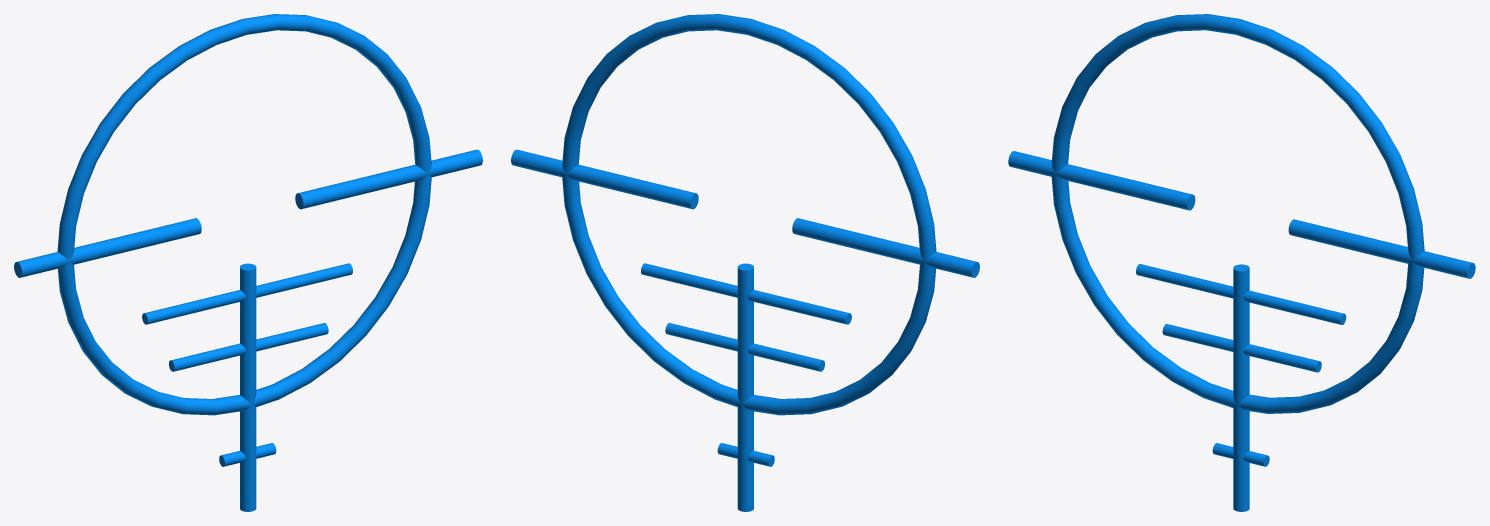
File: ch_granateBlue.DAE
The picture shows the model from 3 angles, left to right: view 1: azimuth 30°, elevation 25°; view 2: azimuth 150°, elevation 25°; view 3: azimuth 330°, elevation 25°; orthographic projection.
Visible parts, largest first — view 1: Torus008, Zylinder007, Zylinder012, Zylinder006, Zylinder008, Zylinder009, Zylinder011; view 2: Torus008, Zylinder007, Zylinder012, Zylinder006, Zylinder008, Zylinder009, Zylinder011; view 3: Torus008, Zylinder007, Zylinder006, Zylinder012, Zylinder008, Zylinder009, Zylinder011.
Part boxes in pixels (<box>): Torus008: <box>57,14,431,415</box>; Zylinder007: <box>240,263,256,511</box>; Zylinder012: <box>295,149,482,209</box>; Zylinder006: <box>14,218,201,277</box>; Zylinder008: <box>142,263,352,324</box>; Zylinder009: <box>169,323,328,371</box>; Zylinder011: <box>219,443,276,466</box>; Torus008: <box>562,14,936,415</box>; Zylinder007: <box>737,263,753,511</box>; Zylinder012: <box>511,149,698,209</box>; Zylinder006: <box>792,218,979,277</box>; Zylinder008: <box>641,263,851,324</box>; Zylinder009: <box>665,323,824,371</box>; Zylinder011: <box>717,443,774,466</box>; Torus008: <box>1051,14,1424,413</box>; Zylinder007: <box>1233,264,1249,511</box>; Zylinder006: <box>1008,151,1195,210</box>; Zylinder012: <box>1288,219,1475,278</box>; Zylinder008: <box>1136,264,1346,324</box>; Zylinder009: <box>1162,324,1321,372</box>; Zylinder011: <box>1212,443,1269,466</box>.
Bounding box in the file's own units: 0.3435 × 0.0107 × 0.3492.
1 material, 1 textured.
